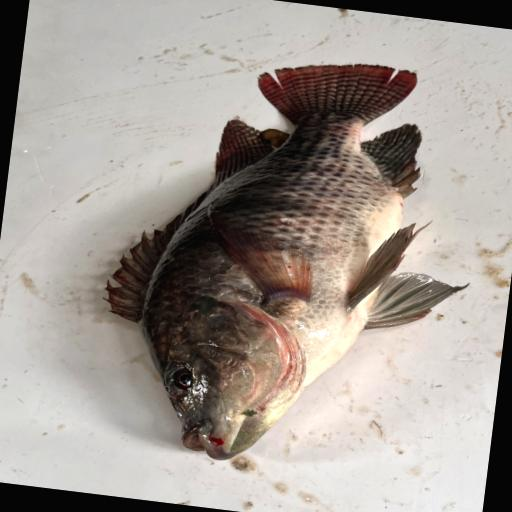Tilapia: (85, 35, 495, 488)
